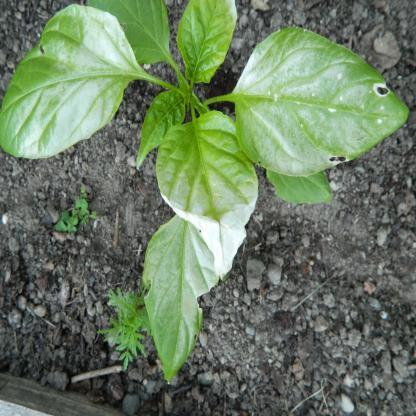Tomato leaf bacterial spot: (235, 20, 410, 176), (0, 10, 136, 160), (152, 104, 257, 272)
